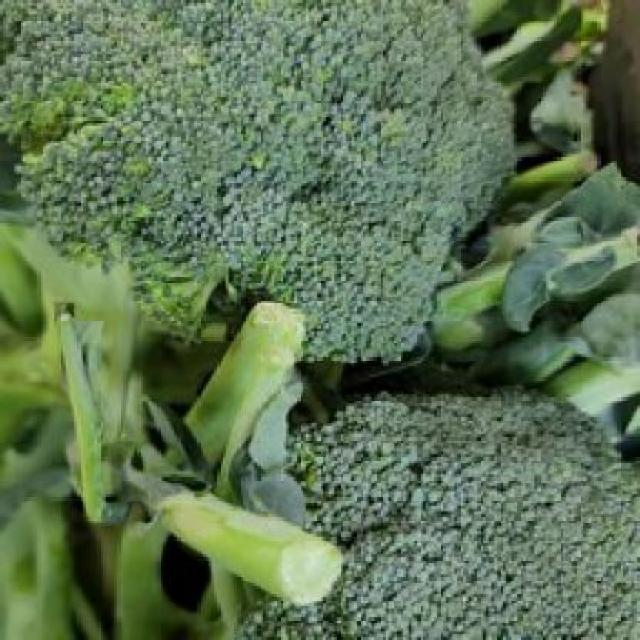broccoli: (0, 0, 492, 352), (193, 388, 630, 634)
